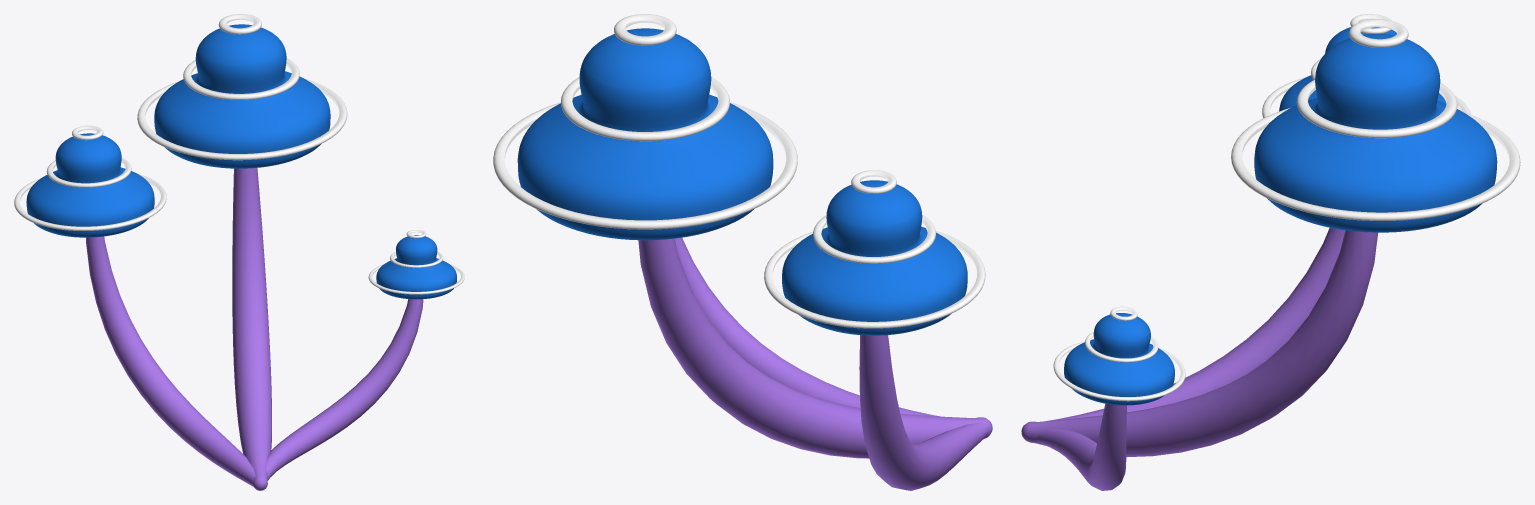
Rendered from shroom_6.glb.
3 renders of one model, left to right at view 1: azimuth 30°, elevation 25°; view 2: azimuth 150°, elevation 25°; view 3: azimuth 270°, elevation 25°, orthographic. The views are drawn at different scales.
Visible parts, largest first — view 1: r.0067, s.0005, r.0063, s.0007, s.0006, r.0059, r.0066, r.0062, r.0065, r.0061, r.0068, r.0058; view 2: r.0067, r.0063, s.0005, s.0007, r.0066, s.0006, r.0062, r.0065, r.0061, r.0068, r.0064; view 3: r.0067, s.0005, s.0007, r.0059, r.0066, s.0006, r.0065, r.0068, r.0058, r.0063.
Part boxes in pixels (<box>): r.0067: <box>154,24,330,168</box>; s.0005: <box>232,168,271,490</box>; r.0063: <box>26,133,154,237</box>; s.0007: <box>86,236,255,486</box>; s.0006: <box>266,299,423,480</box>; r.0059: <box>376,235,456,299</box>; r.0066: <box>137,79,347,160</box>; r.0062: <box>14,174,166,230</box>; r.0065: <box>183,58,299,99</box>; r.0061: <box>46,157,131,187</box>; r.0068: <box>218,14,261,34</box>; r.0058: <box>368,264,464,294</box>; r.0067: <box>517,28,773,240</box>; r.0063: <box>782,180,967,335</box>; s.0005: <box>638,238,992,458</box>; s.0007: <box>859,335,989,490</box>; r.0066: <box>493,102,797,229</box>; s.0006: <box>674,237,940,416</box>; r.0062: <box>764,231,985,328</box>; r.0065: <box>561,77,729,141</box>; r.0061: <box>813,214,935,263</box>; r.0068: <box>614,14,676,45</box>; r.0064: <box>851,170,896,193</box>; r.0067: <box>1254,33,1497,232</box>; s.0005: <box>1021,230,1377,457</box>; s.0007: <box>1046,227,1345,421</box>; r.0059: <box>1064,313,1174,405</box>; r.0066: <box>1231,108,1520,220</box>; s.0006: <box>1036,403,1126,490</box>; r.0065: <box>1296,79,1457,138</box>; r.0068: <box>1349,19,1408,47</box>; r.0058: <box>1053,341,1185,401</box>; r.0063: <box>1279,27,1446,111</box>.
Size of the model in its own units: 1.12 by 1.09 by 1.02.
